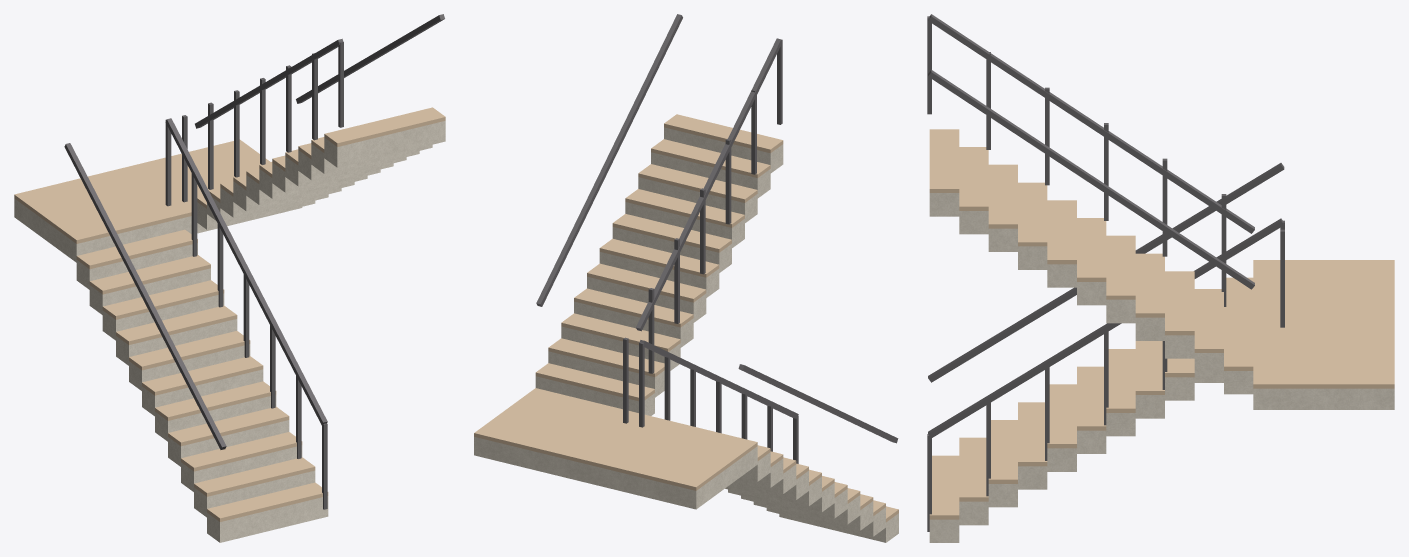
Rendered from stairs_u_4m.glb.
3 renders of one model, left to right at view 1: azimuth 30°, elevation 25°; view 2: azimuth 150°, elevation 25°; view 3: azimuth 270°, elevation 25°, orthographic. The views are drawn at different scales.
Visible parts, largest first — view 1: stairs_u_4m_floor, stairs_u_4m_plaster, stairs_u_4m_iron; view 2: stairs_u_4m_floor, stairs_u_4m_plaster, stairs_u_4m_iron; view 3: stairs_u_4m_floor, stairs_u_4m_plaster, stairs_u_4m_iron.
Part boxes in pixels (box(x1,y1,x2,y2)): stairs_u_4m_floor: box(14, 107, 445, 521); stairs_u_4m_plaster: box(14, 121, 445, 542); stairs_u_4m_iron: box(64, 14, 444, 509); stairs_u_4m_floor: box(474, 114, 898, 522); stairs_u_4m_plaster: box(474, 127, 898, 542); stairs_u_4m_iron: box(536, 14, 898, 463); stairs_u_4m_floor: box(929, 129, 1394, 519); stairs_u_4m_plaster: box(929, 193, 1394, 542); stairs_u_4m_iron: box(927, 14, 1284, 531).
Bounding box in the file's own units: 2.5 × 5.01 × 3.97.
Materials: 3 (1 with a texture image).
